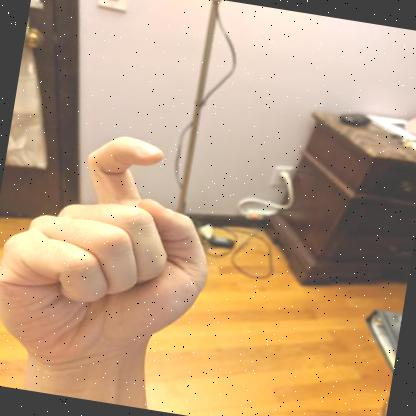X: (0, 136, 207, 377)
